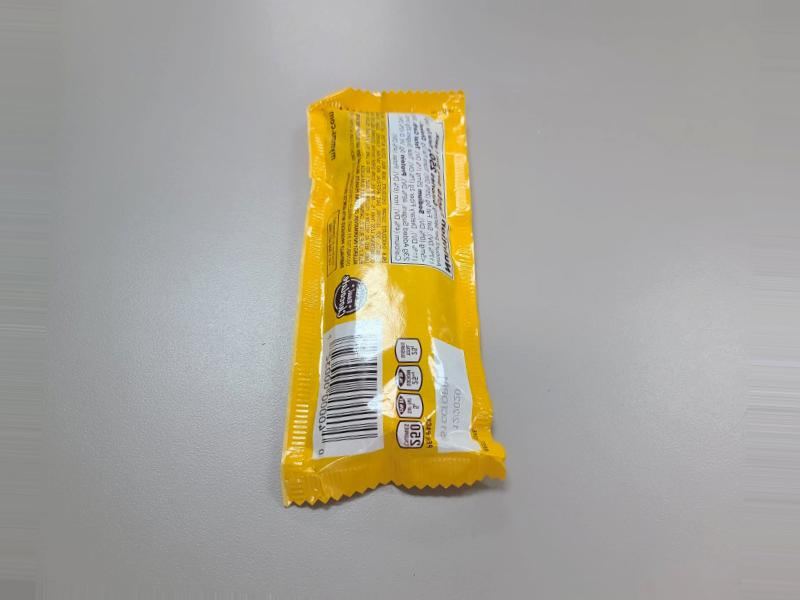m&m: (295, 73, 498, 500)
